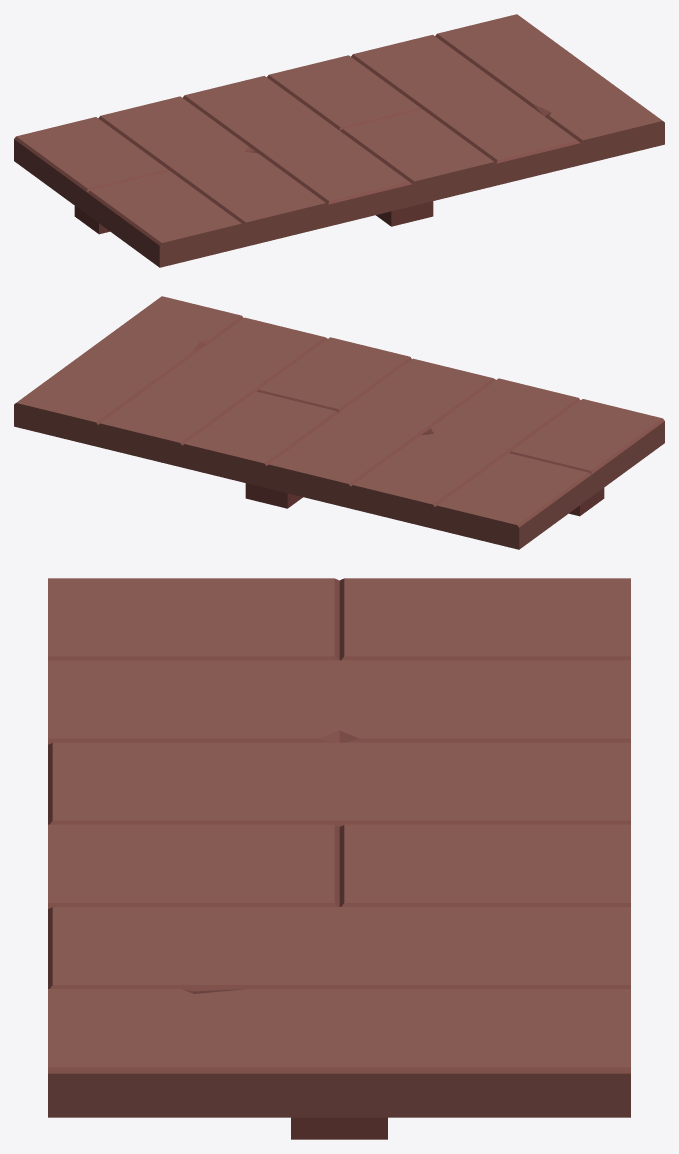
File: Floor_3.fbx
3 views of the same model, one above another, from view 1: azimuth 30°, elevation 25°; view 2: azimuth 150°, elevation 25°; view 3: azimuth 270°, elevation 25° (orthographic). The views are drawn at different scales.
Parts seen in each view (by area): view 1: Floor_3; view 2: Floor_3; view 3: Floor_3.
Boxes of the visible parts, x1,y1,x2,y2 form: Floor_3: (14, 14, 664, 267); Floor_3: (14, 296, 664, 549); Floor_3: (48, 578, 630, 1139).
Bounding box in the file's own units: 2.4 × 1.2 × 0.18.
